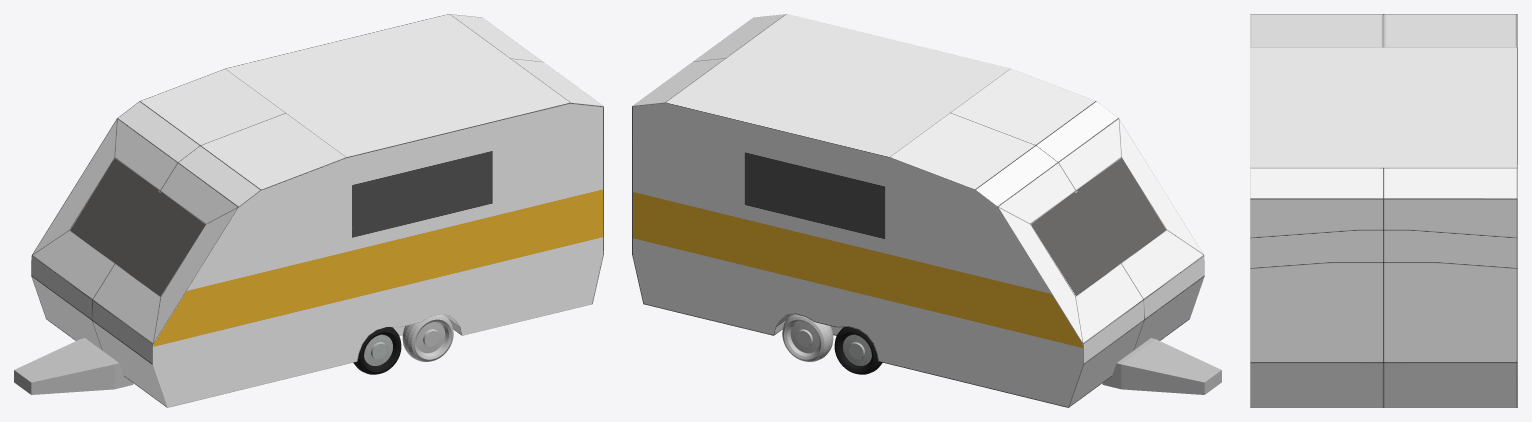
Rendered from caravan.obj.
3 views of the same model, side by side, from view 1: azimuth 30°, elevation 25°; view 2: azimuth 150°, elevation 25°; view 3: azimuth 270°, elevation 25° (orthographic). The views are drawn at different scales.
Parts seen in each view (by area): view 1: Caravan_body_Cube, Connector_Cube.001, Wheel_2_Torus.001, Wheel_Torus; view 2: Caravan_body_Cube, Connector_Cube.001, Wheel_2_Torus.001, Wheel_Torus; view 3: Caravan_body_Cube.
Part boxes in pixels (bbox=[...]): Caravan_body_Cube: bbox=[31, 14, 603, 407]; Connector_Cube.001: bbox=[14, 338, 133, 394]; Wheel_2_Torus.001: bbox=[402, 314, 453, 361]; Wheel_Torus: bbox=[353, 327, 401, 374]; Caravan_body_Cube: bbox=[632, 14, 1204, 407]; Connector_Cube.001: bbox=[1102, 338, 1221, 394]; Wheel_2_Torus.001: bbox=[782, 314, 833, 361]; Wheel_Torus: bbox=[834, 327, 882, 374]; Caravan_body_Cube: bbox=[1250, 14, 1517, 407].
Size of the model in its own units: 13.95 by 5.9 by 5.63.
